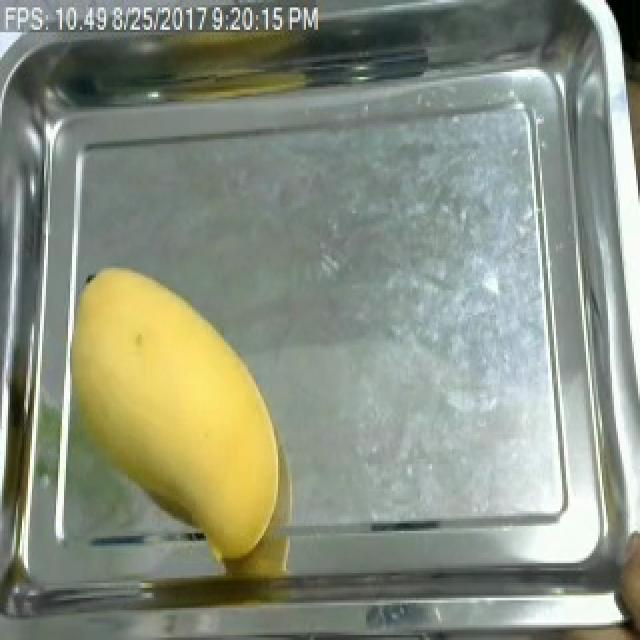fruit: (54, 253, 298, 571)
